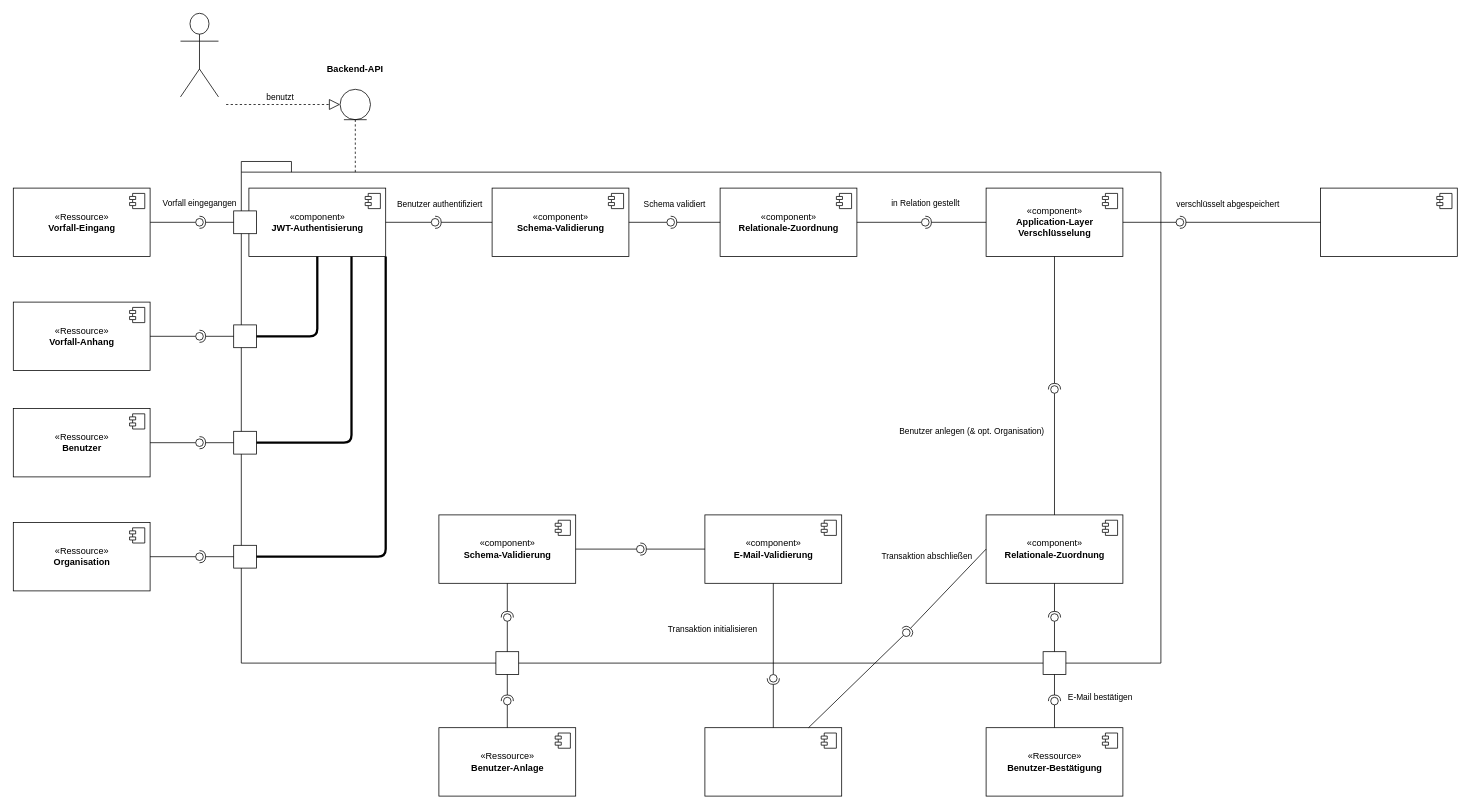
This 1471x809 diagram has some shape labels left out. The box of each missing label's shape, as (x1, y1, x2, y2) in pixels:
Anwender: (180, 13, 218, 97)
Backend: (241, 161, 1161, 663)
«database» Tabellen: (1320, 187, 1457, 256)
«database» Transaktions-Tabelle: (704, 727, 842, 796)
